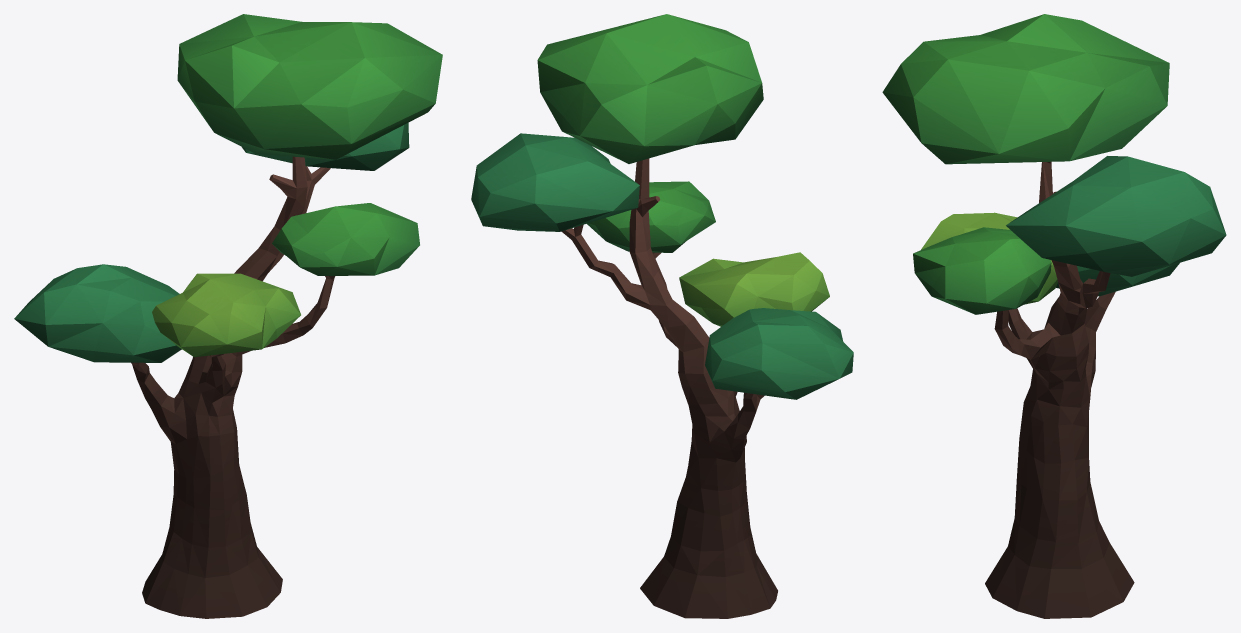
The model's file is ZLP_Plant_C_2.FBX.
3 views of the same model, side by side, from view 1: azimuth 30°, elevation 25°; view 2: azimuth 150°, elevation 25°; view 3: azimuth 270°, elevation 25° (orthographic). The views are drawn at different scales.
Parts seen in each view (by area): view 1: ZLP_Plant_C_2; view 2: ZLP_Plant_C_2; view 3: ZLP_Plant_C_2.
Boxes of the visible parts, box(x1,y1,x2,y2) form: ZLP_Plant_C_2: box(14, 14, 442, 618); ZLP_Plant_C_2: box(471, 14, 853, 618); ZLP_Plant_C_2: box(882, 14, 1226, 618).
Bounding box in the file's own units: 373 × 520 × 280.
